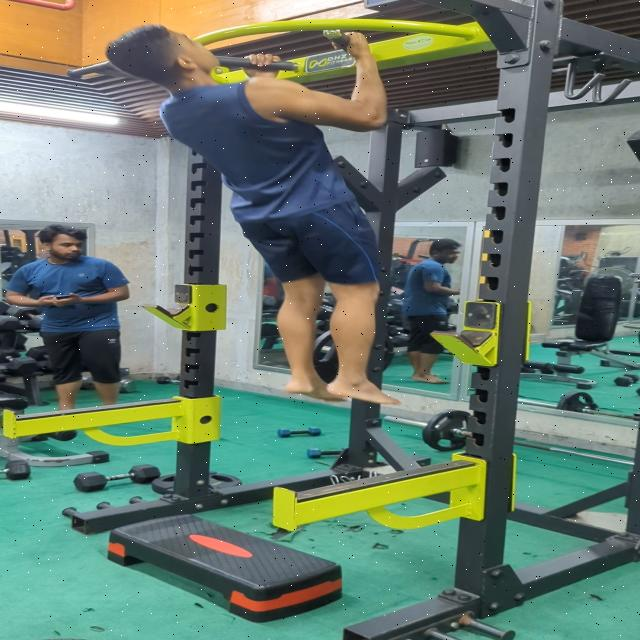Normal_PullUps: (100, 18, 404, 408)
